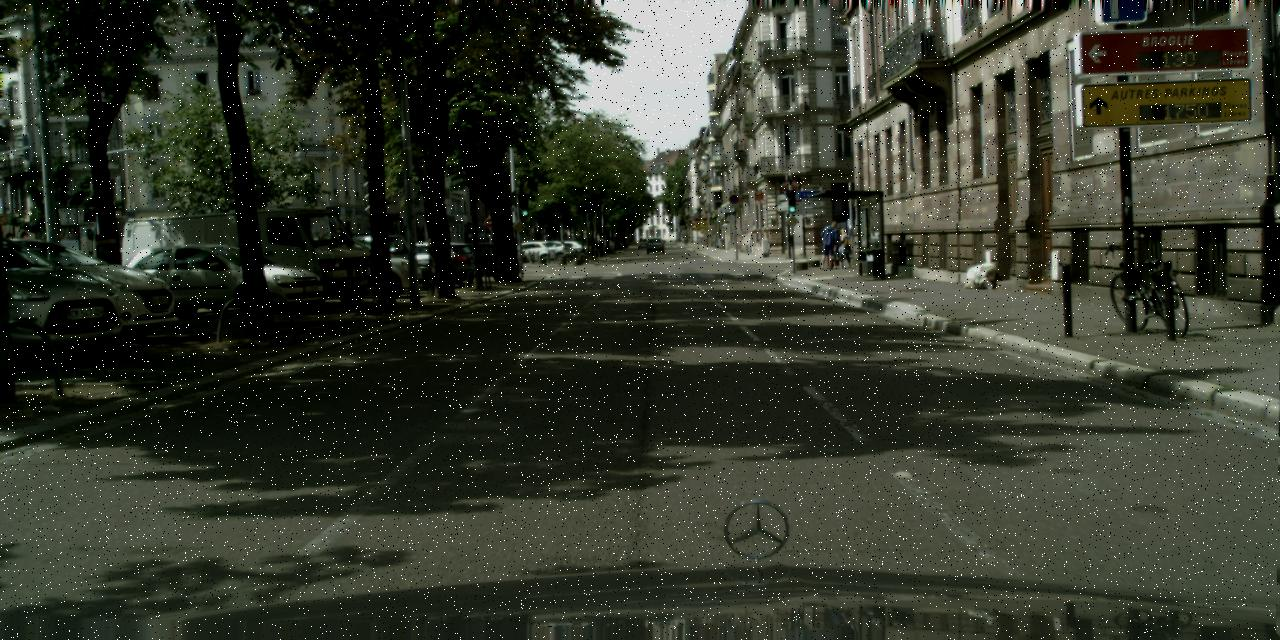ped: (820, 221, 839, 269), (835, 228, 851, 268), (831, 243, 841, 268)
